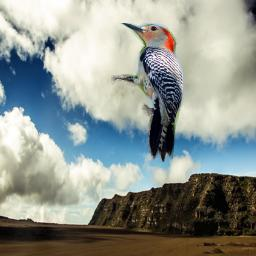Woodpecker: (111, 23, 183, 162)
